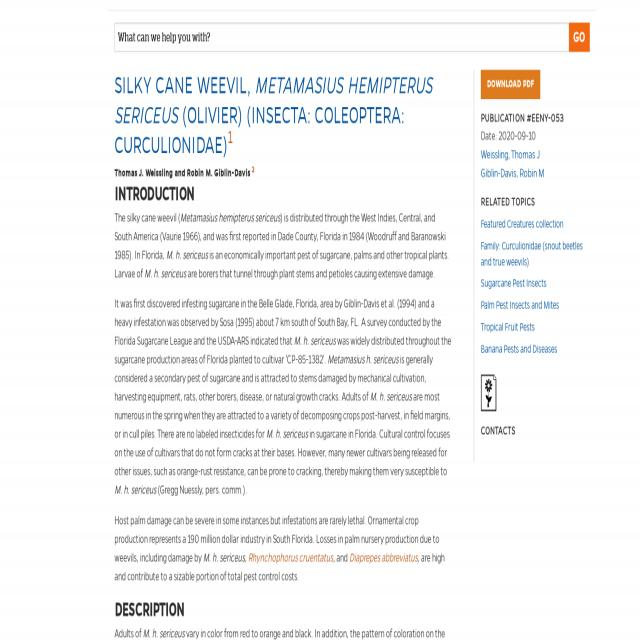button: (481, 70, 541, 99), (481, 374, 497, 412), (569, 23, 589, 52)
field: (115, 23, 570, 52)
